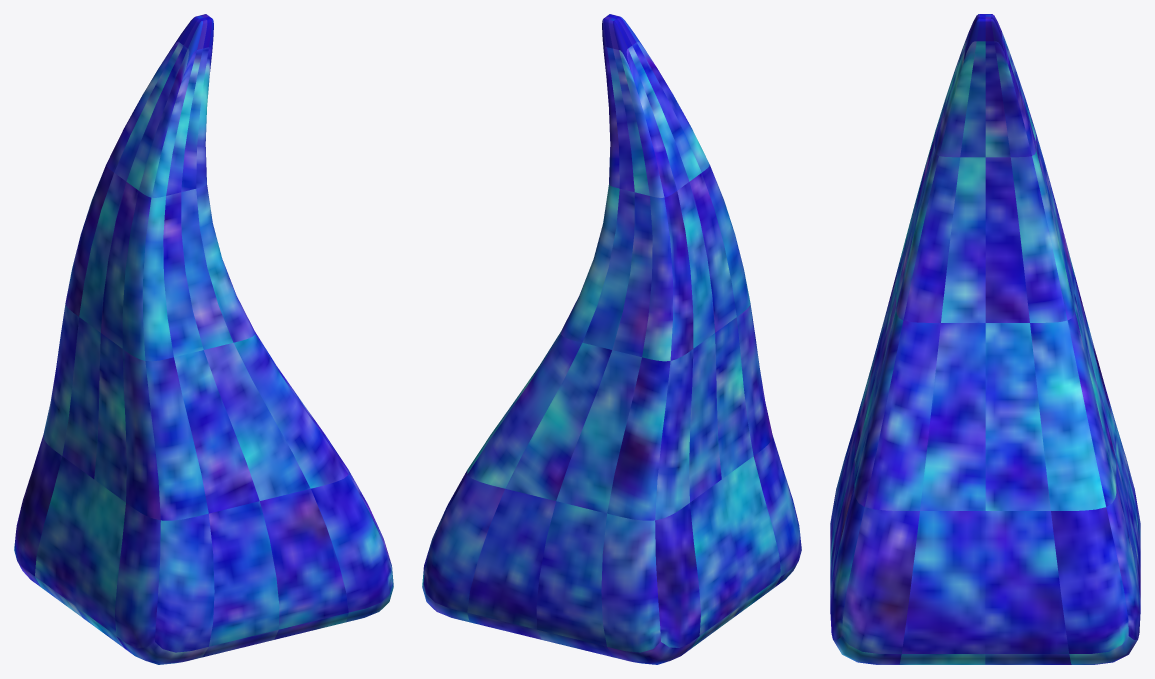
The model's file is Pico.fbx.
The picture shows the model from 3 angles, left to right: view 1: azimuth 30°, elevation 25°; view 2: azimuth 150°, elevation 25°; view 3: azimuth 270°, elevation 25°; orthographic projection. The views are drawn at different scales.
Visible parts, largest first — view 1: Cube; view 2: Cube; view 3: Cube.
Boxes of the visible parts, bbox=[...] form: Cube: bbox=[14, 14, 393, 664]; Cube: bbox=[422, 14, 801, 664]; Cube: bbox=[830, 14, 1140, 664].
Bounding box in the file's own units: 136 × 294 × 139.
